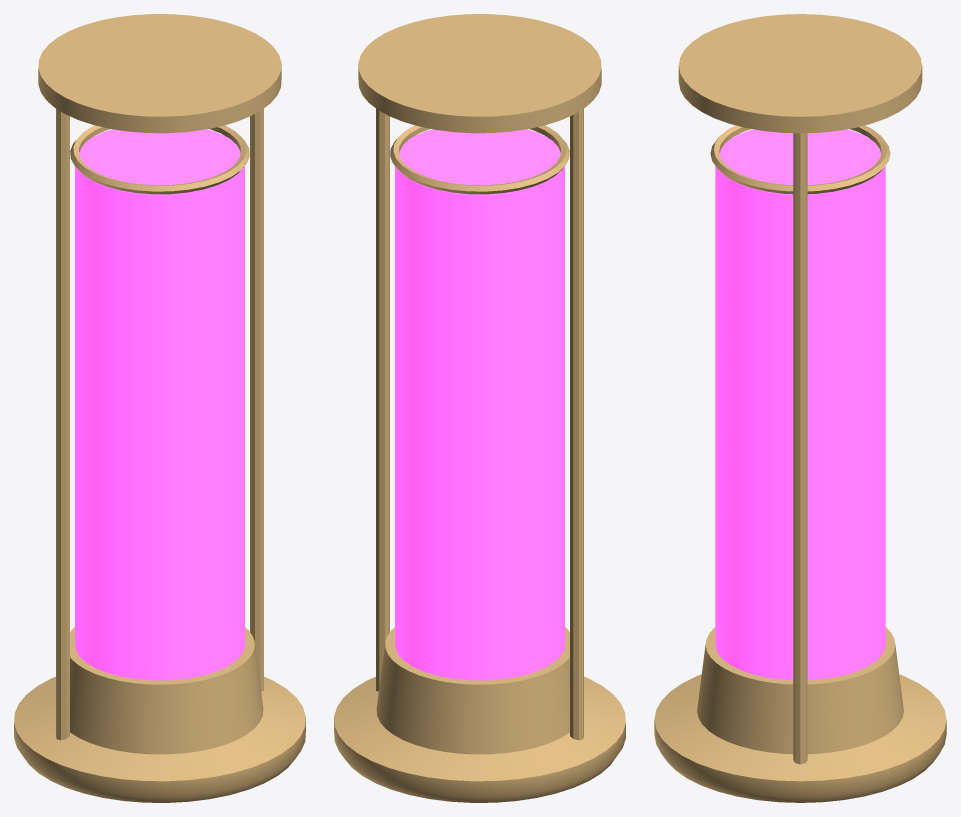
File: JAC_17_Luminaria_Piso.glb
3 views of the same model, side by side, from view 1: azimuth 30°, elevation 25°; view 2: azimuth 150°, elevation 25°; view 3: azimuth 270°, elevation 25° (orthographic).
Parts seen in each view (by area): view 1: JAC_17_Luminaria_Piso; view 2: JAC_17_Luminaria_Piso; view 3: JAC_17_Luminaria_Piso.
Part boxes in pixels (<box>): JAC_17_Luminaria_Piso: <box>14,14,305,802</box>; JAC_17_Luminaria_Piso: <box>334,14,625,802</box>; JAC_17_Luminaria_Piso: <box>654,14,946,802</box>.
Size of the model in its own units: 0.24 by 0.615 by 0.24.
